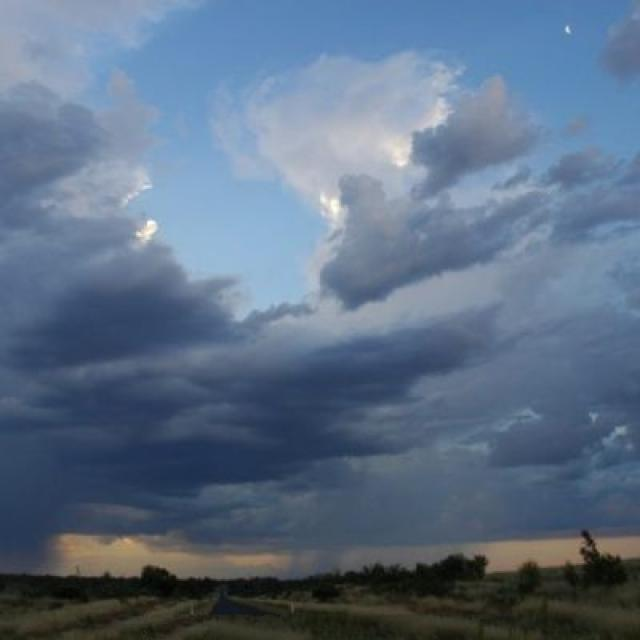Cb: (1, 29, 640, 472)
